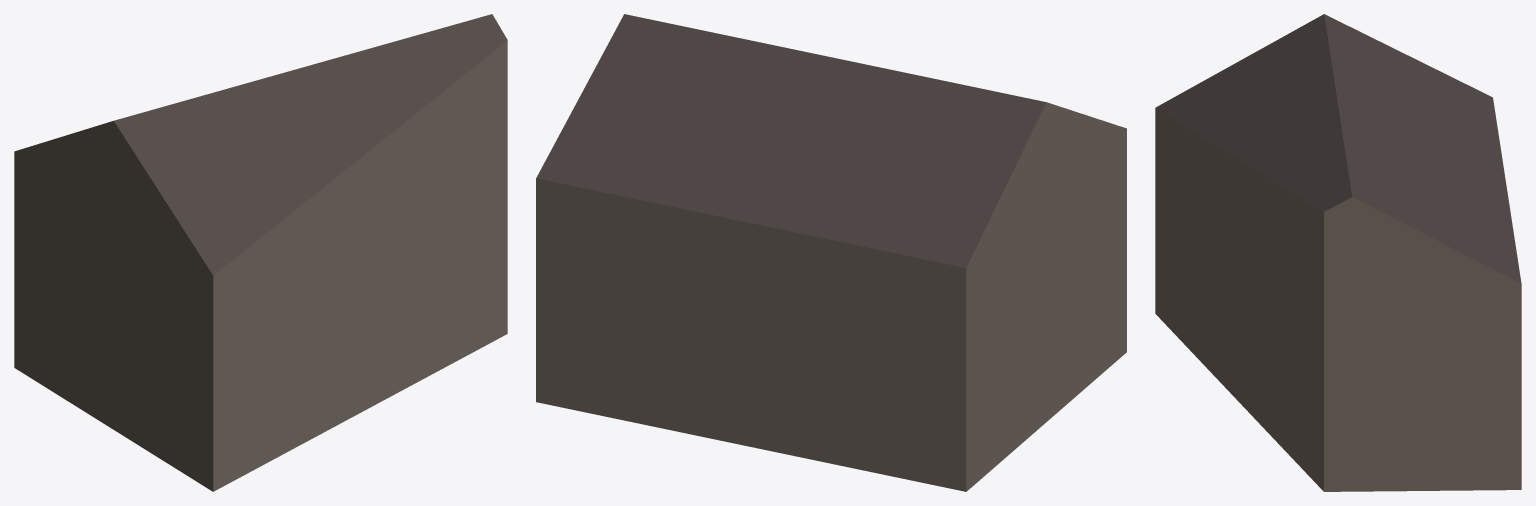
3 views of the same model, side by side, from view 1: azimuth 30°, elevation 25°; view 2: azimuth 150°, elevation 25°; view 3: azimuth 270°, elevation 25° (orthographic). The views are drawn at different scales.
Parts seen in each view (by area): view 1: HP-w859424243; view 2: HP-w859424243; view 3: HP-w859424243.
Part boxes in pixels (bbox=[...]): HP-w859424243: bbox=[14, 14, 507, 491]; HP-w859424243: bbox=[536, 14, 1126, 491]; HP-w859424243: bbox=[1155, 14, 1521, 491].
Size of the model in its own units: 11.76 by 8.58 by 9.66.
